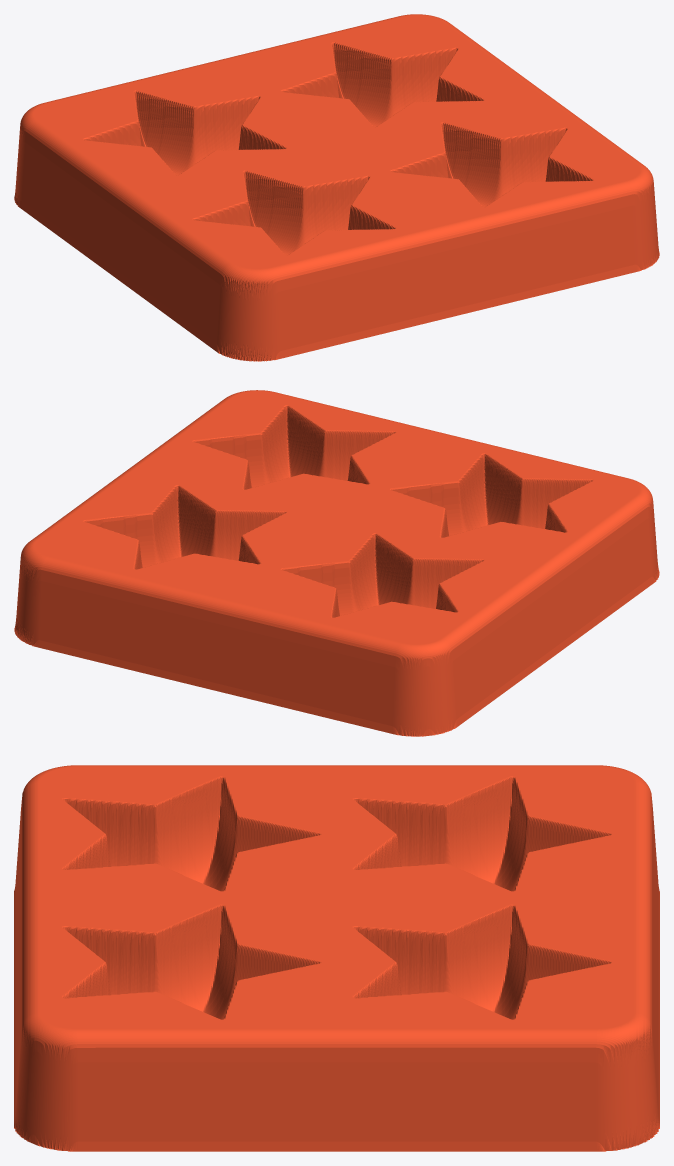
The model's file is mold.glb.
3 views of the same model, one above another, from view 1: azimuth 30°, elevation 25°; view 2: azimuth 150°, elevation 25°; view 3: azimuth 270°, elevation 25° (orthographic). The views are drawn at different scales.
Visible parts, largest first — view 1: geometry_0; view 2: geometry_0; view 3: geometry_0.
Part boxes in pixels (box(x1,y1,x2,y2)): geometry_0: box(14, 14, 659, 361); geometry_0: box(14, 390, 659, 736); geometry_0: box(14, 765, 659, 1151).
Bounding box in the file's own units: 0.0952 × 0.0175 × 0.0916.
